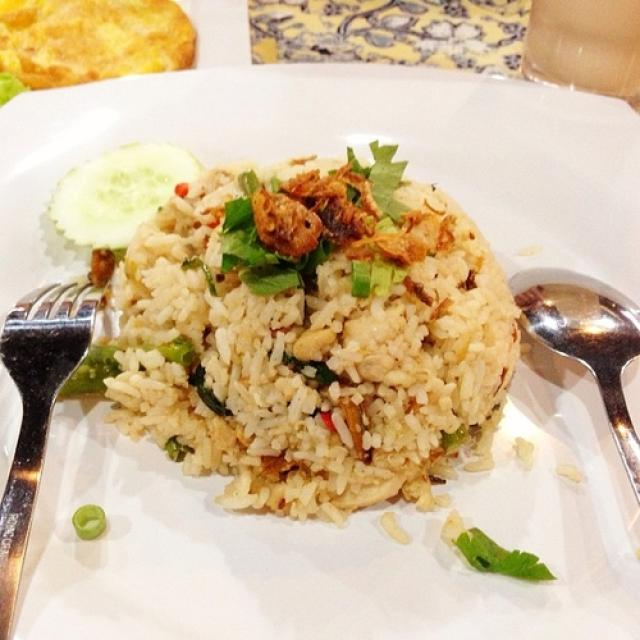米饭主食: (26, 92, 588, 584)
